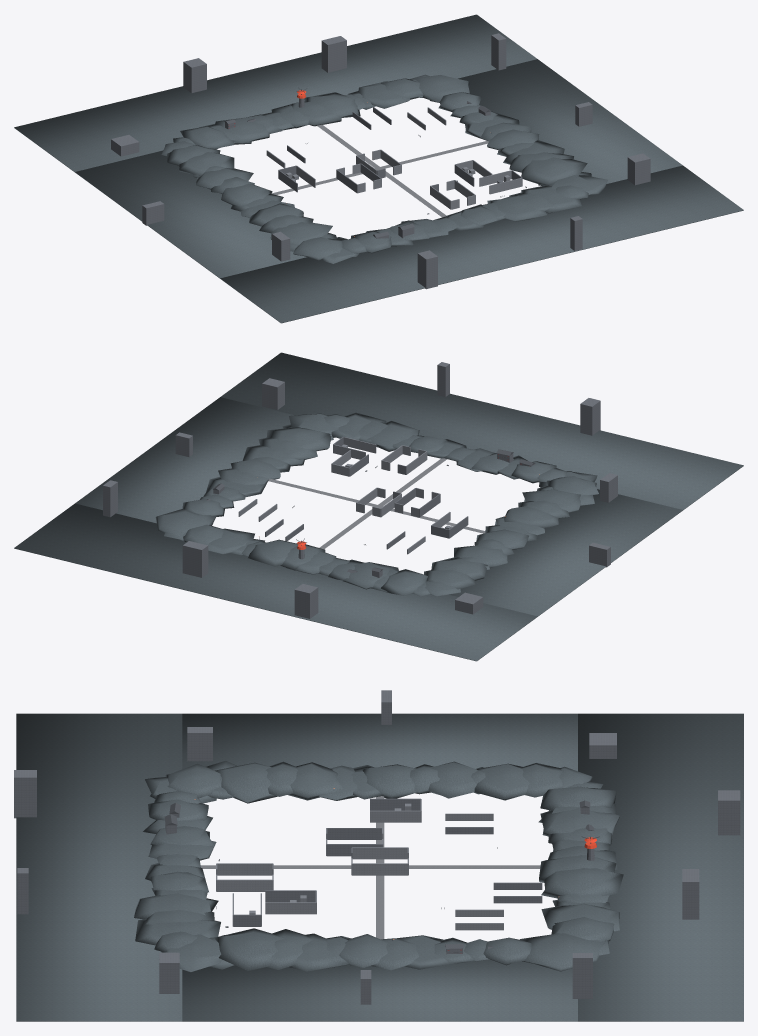
Rendered from kunren-lod2.glb.
3 views of the same model, one above another, from view 1: azimuth 30°, elevation 25°; view 2: azimuth 150°, elevation 25°; view 3: azimuth 270°, elevation 25° (orthographic). The views are drawn at different scales.
Parts seen in each view (by area): view 1: HB_kunren_LOD2_terrain, HB_kunren_LOD2_wall_alt, HB_kunren_LOD2_wall, HB_kunren_LOD2_road; view 2: HB_kunren_LOD2_terrain, HB_kunren_LOD2_wall_alt, HB_kunren_LOD2_wall, HB_kunren_LOD2_road; view 3: HB_kunren_LOD2_terrain, HB_kunren_LOD2_wall_alt, HB_kunren_LOD2_wall, HB_kunren_LOD2_road, HB_kunren_LOD2_trim.
Boxes of the visible parts, x1=… form: HB_kunren_LOD2_terrain: x1=14, y1=14, x2=743, y2=323; HB_kunren_LOD2_wall_alt: x1=111, y1=33, x2=650, y2=289; HB_kunren_LOD2_wall: x1=266, y1=107, x2=526, y2=214; HB_kunren_LOD2_road: x1=271, y1=124, x2=488, y2=217; HB_kunren_LOD2_terrain: x1=14, y1=352, x2=743, y2=661; HB_kunren_LOD2_wall_alt: x1=103, y1=362, x2=617, y2=618; HB_kunren_LOD2_wall: x1=238, y1=437, x2=452, y2=554; HB_kunren_LOD2_road: x1=268, y1=458, x2=485, y2=549; HB_kunren_LOD2_terrain: x1=16, y1=713, x2=743, y2=1021; HB_kunren_LOD2_wall_alt: x1=14, y1=690, x2=740, y2=1004; HB_kunren_LOD2_wall: x1=216, y1=803, x2=503, y2=930; HB_kunren_LOD2_road: x1=200, y1=796, x2=540, y2=939; HB_kunren_LOD2_trim: x1=164, y1=799, x2=599, y2=952.
Bounding box in the file's own units: 571 × 36.29 × 572.
8 materials, 6 textured.
